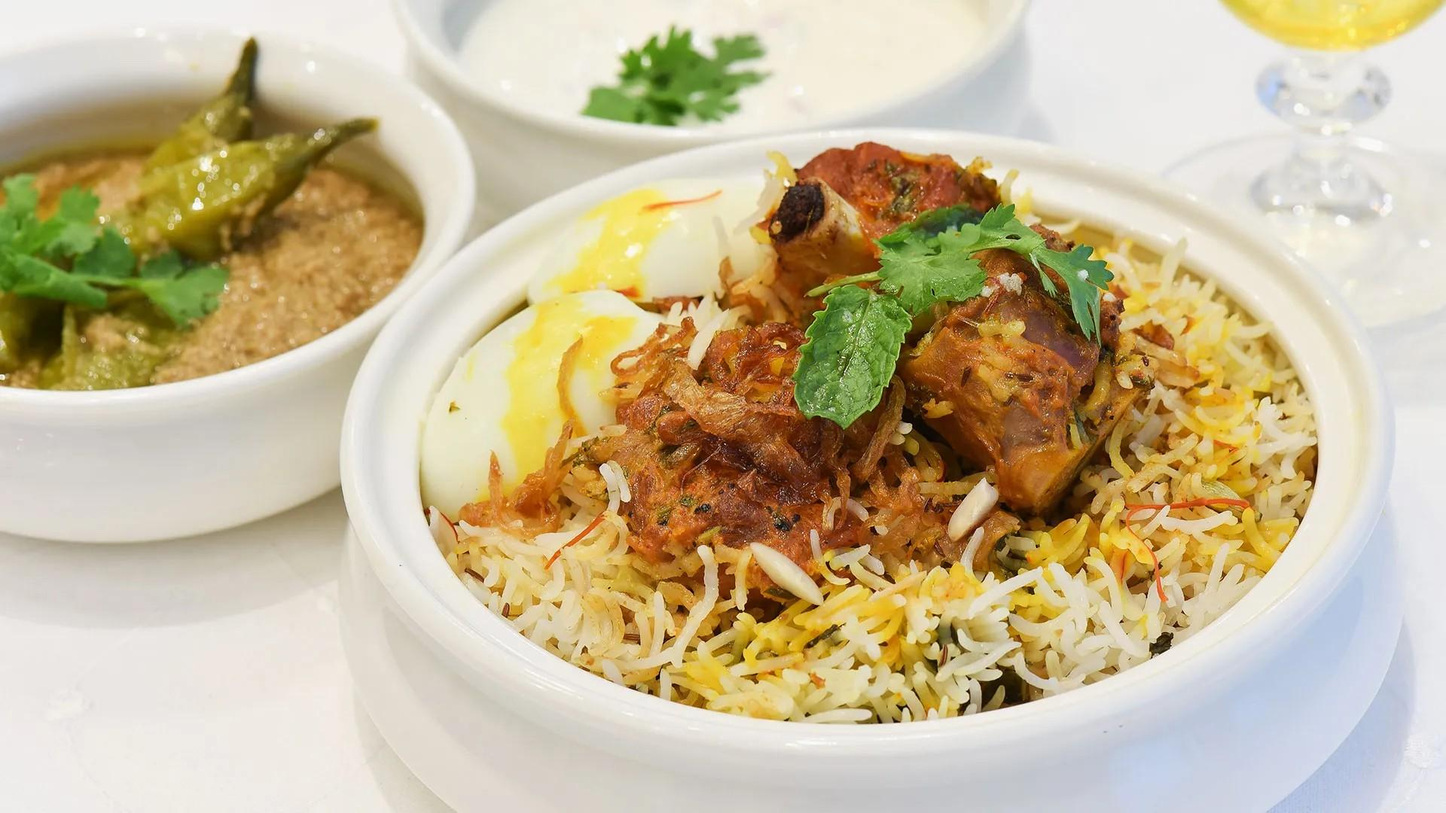Biryani: (419, 137, 1318, 725)
